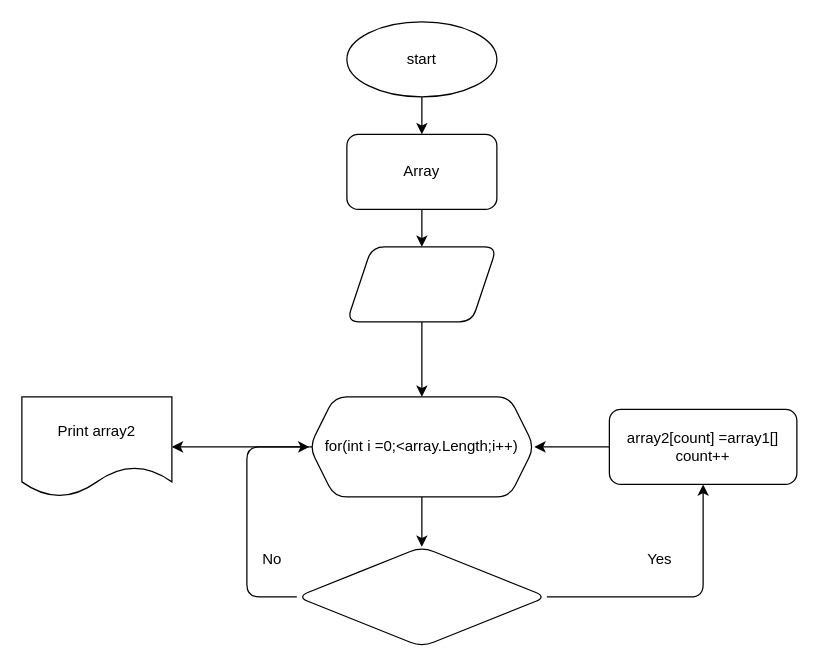
This 819x669 diagram has some shape labels left out. The shapes that lost their labels are listed below. From the top down, each one's box as (x1, y1, x2, y2) in pixels, then its label:
(346, 246, 497, 322): string[] Array1 string[] Array2 int count = 0
(296, 546, 547, 647): if(array1.Length <= 3)
